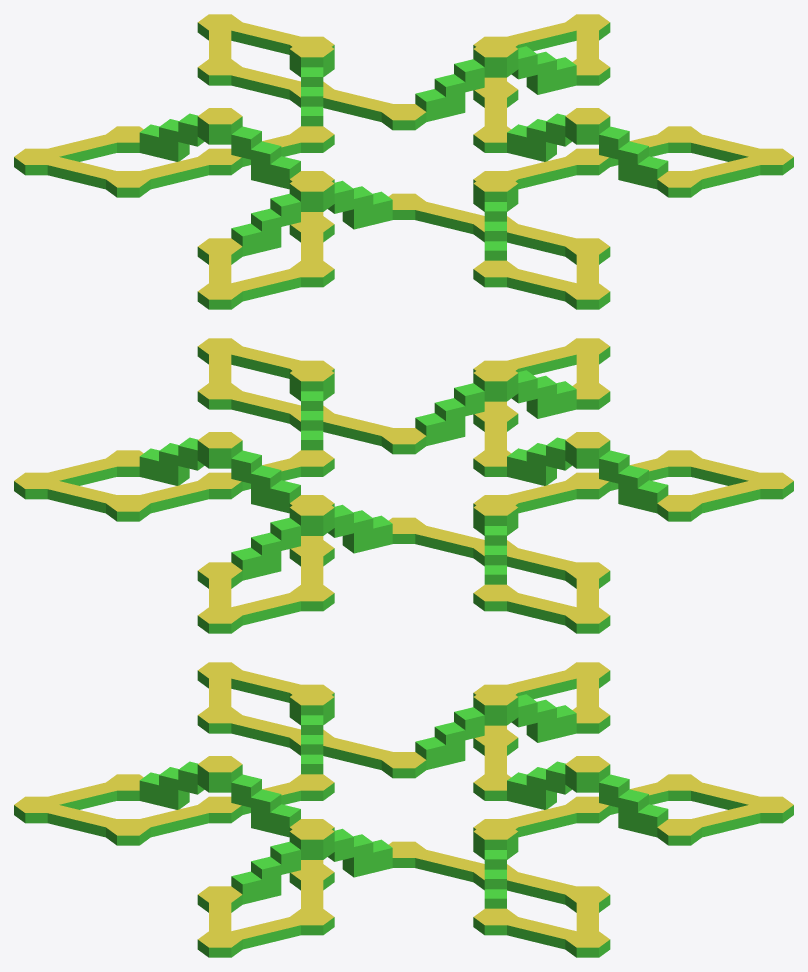
File: Stepped12CrossingKnotHexagons.glb
3 views of the same model, one above another, from view 1: azimuth 30°, elevation 25°; view 2: azimuth 150°, elevation 25°; view 3: azimuth 270°, elevation 25° (orthographic).
Parts seen in each view (by area): view 1: ART_WA_B_E_STAR_6X_4Augmented_Hexa_Prism; view 2: ART_WA_B_E_STAR_6X_4Augmented_Hexa_Prism; view 3: ART_WA_B_E_STAR_6X_4Augmented_Hexa_Prism.
Boxes of the visible parts, x1,y1,x2,y2 form: ART_WA_B_E_STAR_6X_4Augmented_Hexa_Prism: (14, 14, 793, 309); ART_WA_B_E_STAR_6X_4Augmented_Hexa_Prism: (14, 338, 793, 633); ART_WA_B_E_STAR_6X_4Augmented_Hexa_Prism: (14, 662, 793, 957).
Size of the model in its own units: 120 by 10 by 139.
